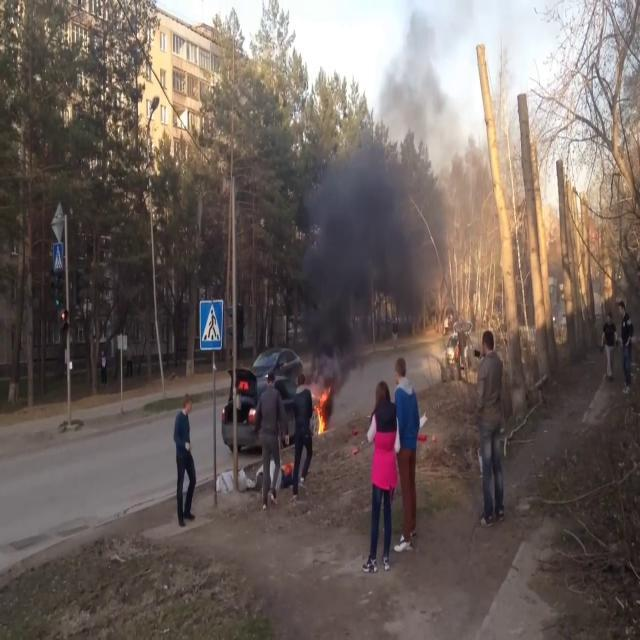Fire: (312, 378, 331, 438)
Smoke: (293, 124, 428, 376), (374, 2, 458, 163)
